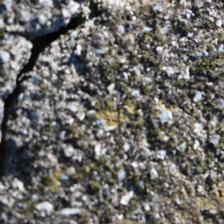Crack: (2, 5, 103, 126)
